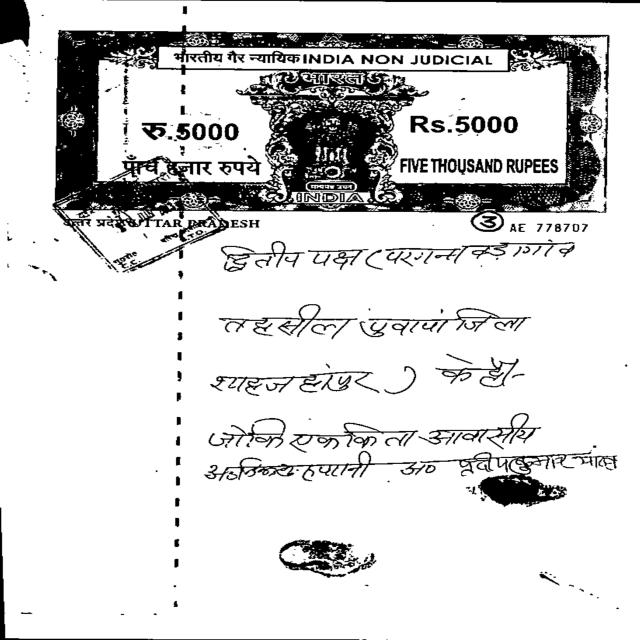afidivitstamp: (57, 35, 610, 215)
fingerprint: (276, 538, 379, 587), (476, 474, 572, 512)
govtstamp: (52, 158, 228, 272)
